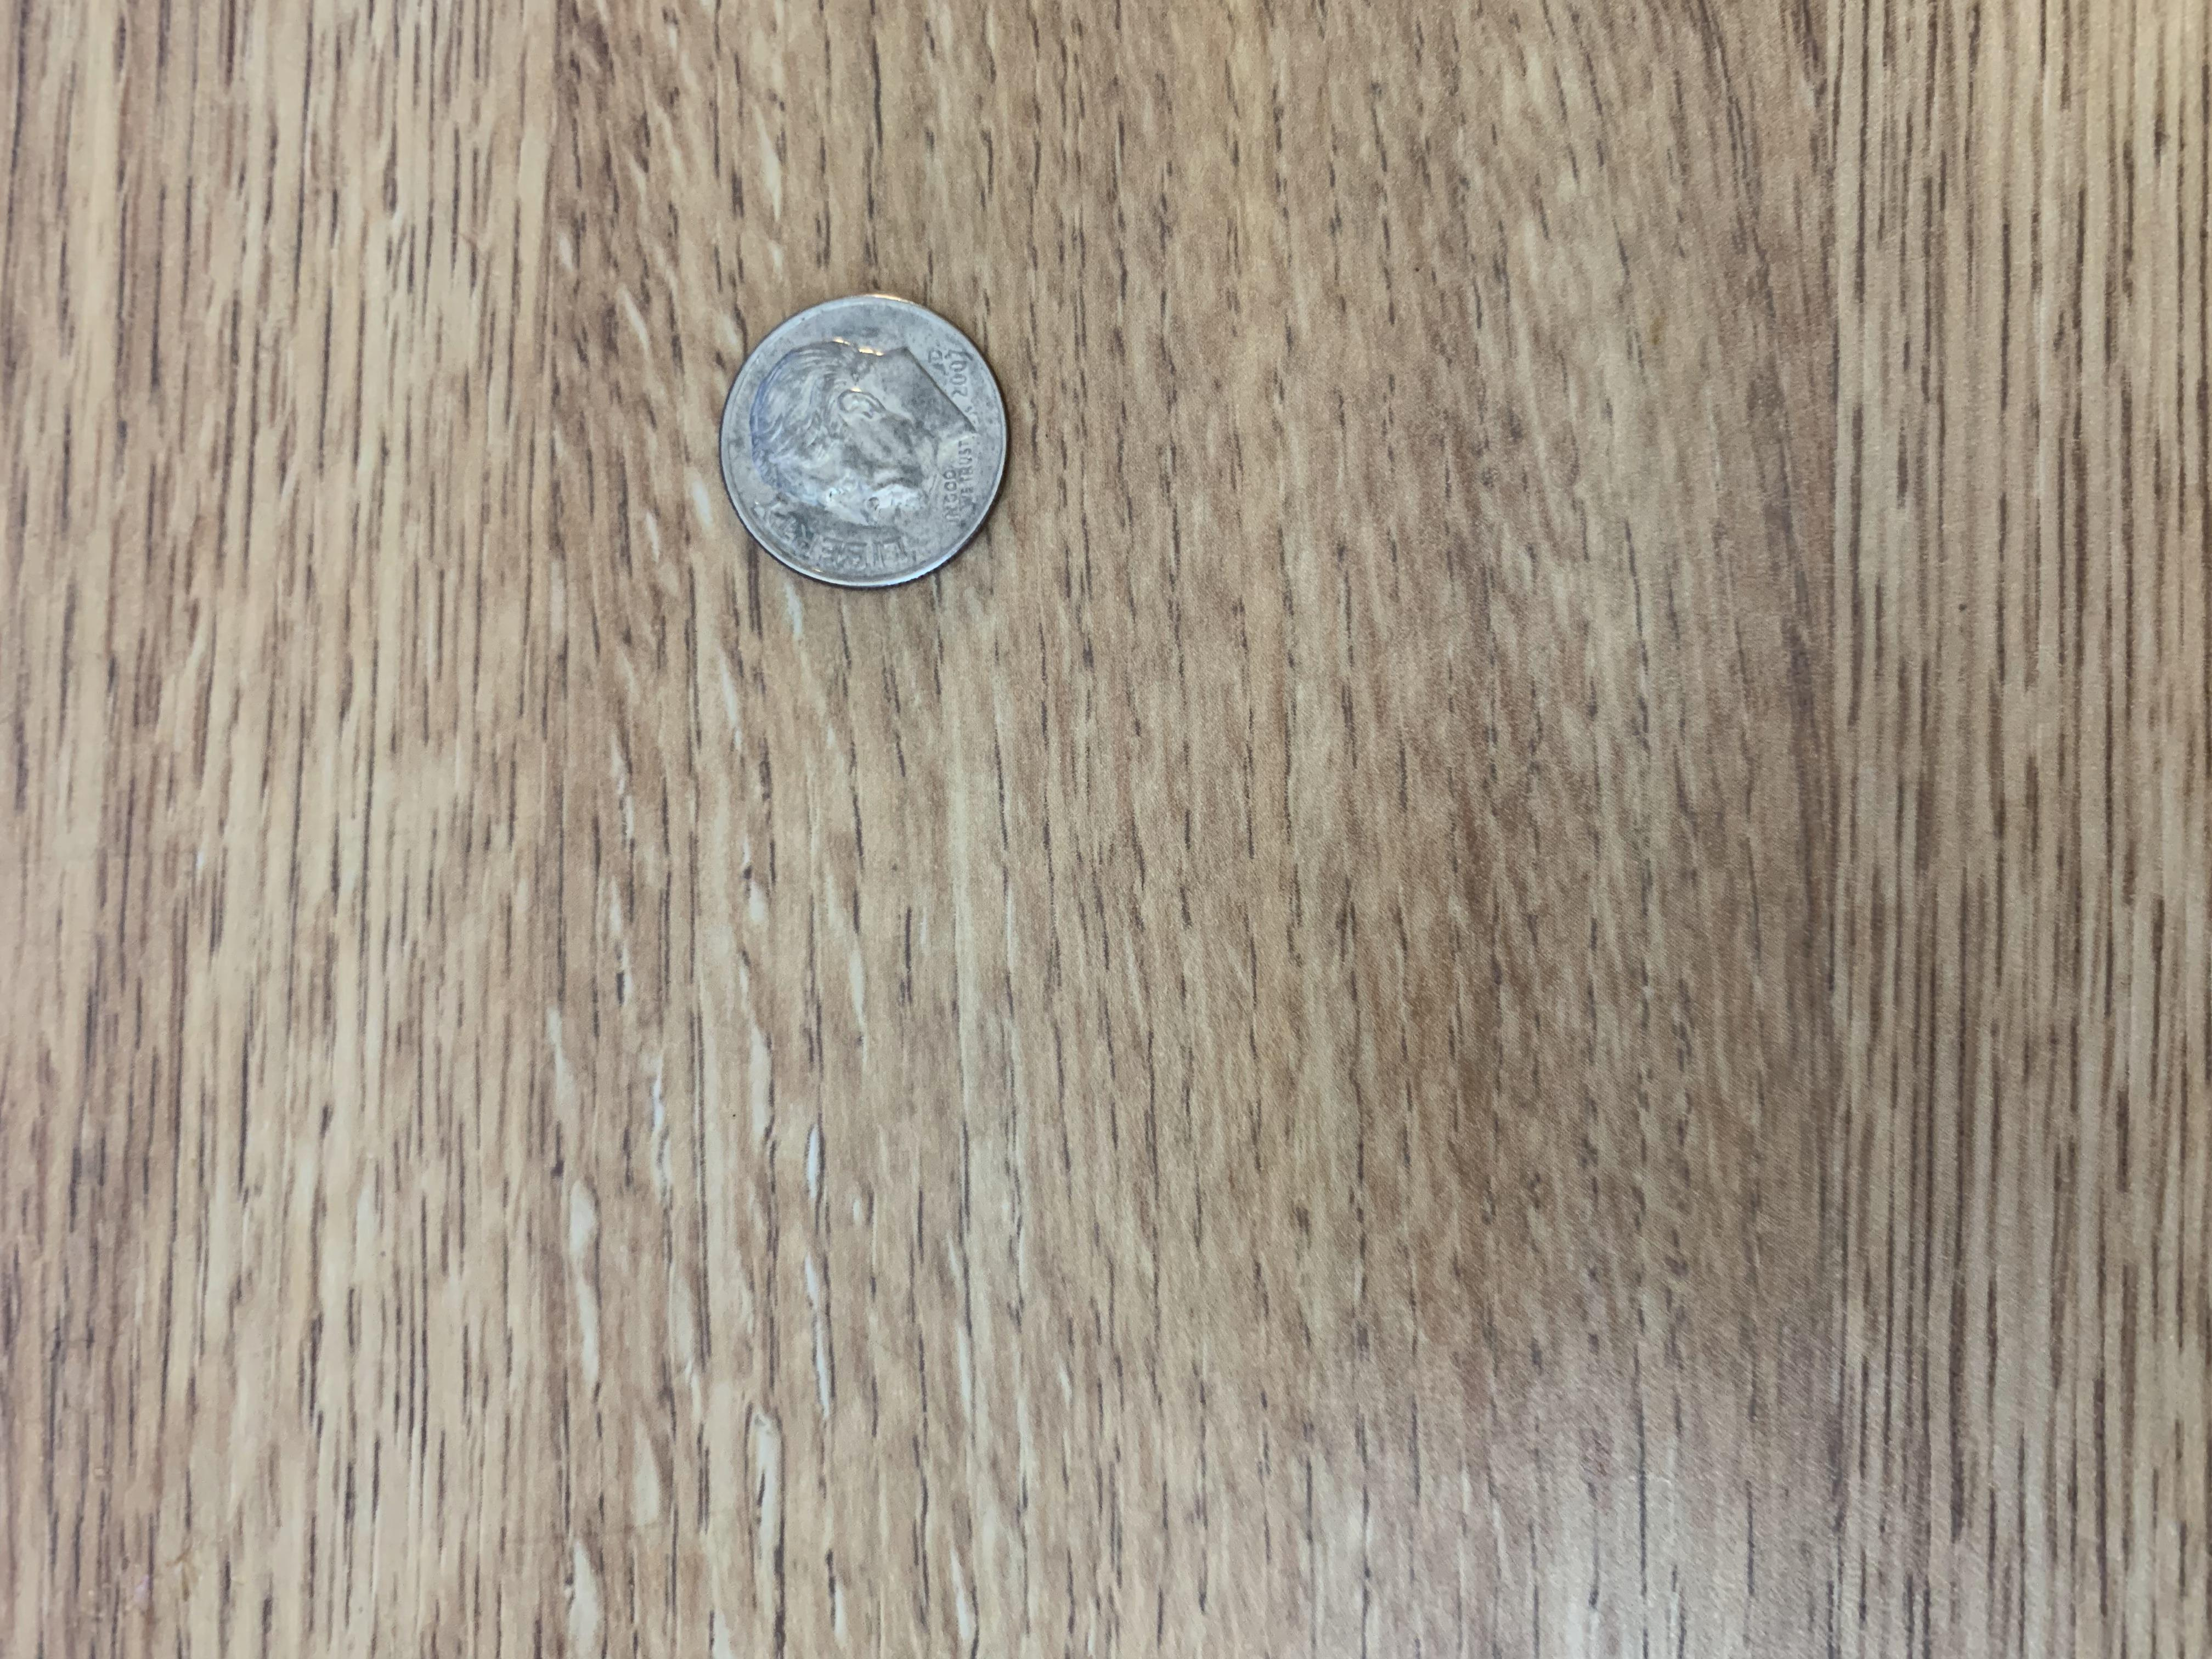Dime: (698, 282, 1029, 596)
